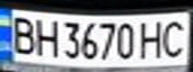0: (115, 19, 139, 61)
3: (57, 18, 81, 60)
6: (78, 19, 100, 61)
7: (97, 19, 118, 61)
B: (6, 12, 39, 55)
C: (157, 16, 190, 58)
H: (136, 17, 166, 60), (30, 16, 60, 57)
